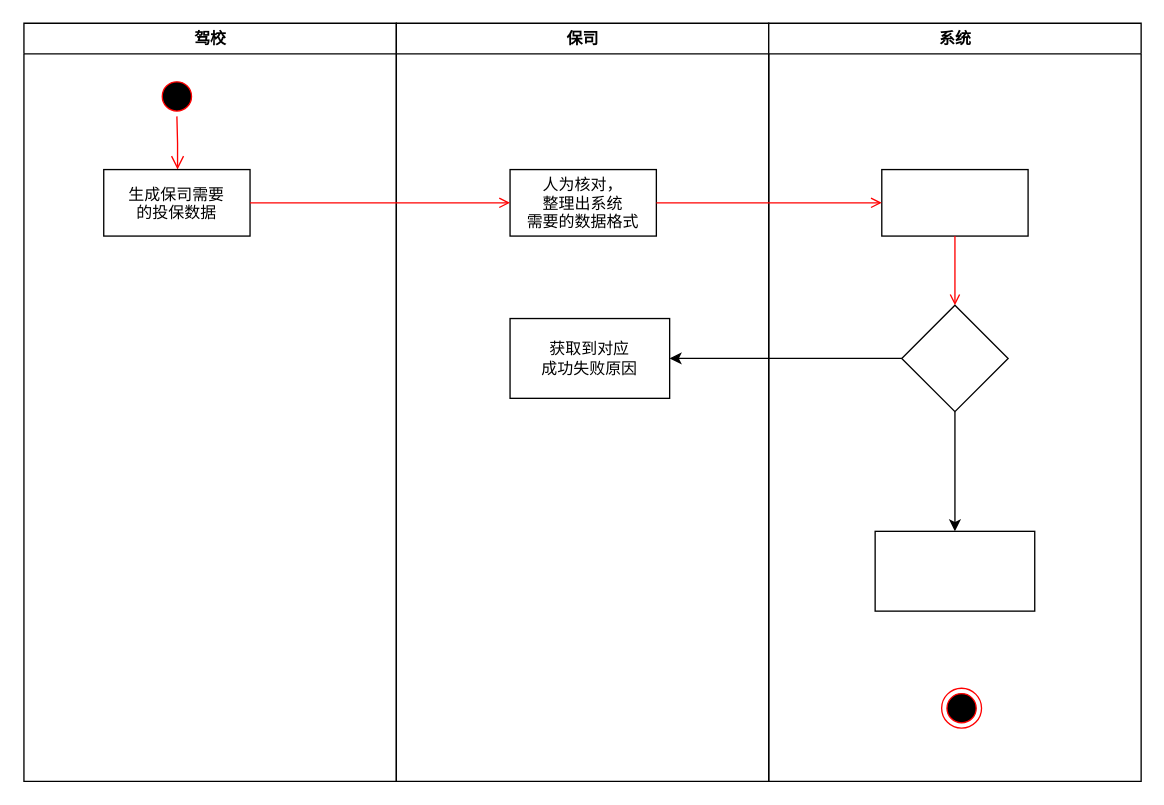
Some shapes in this 1164 by 805 pixel diagram are drawn without their labels. Here are the shapes that lost their labels. From the top down, the box of each, then its label:
(880, 168, 1028, 236): 获取到对应的 待核验数据
(900, 304, 1008, 412): 数据是否有 无问题
(874, 530, 1035, 611): 暂存数据
